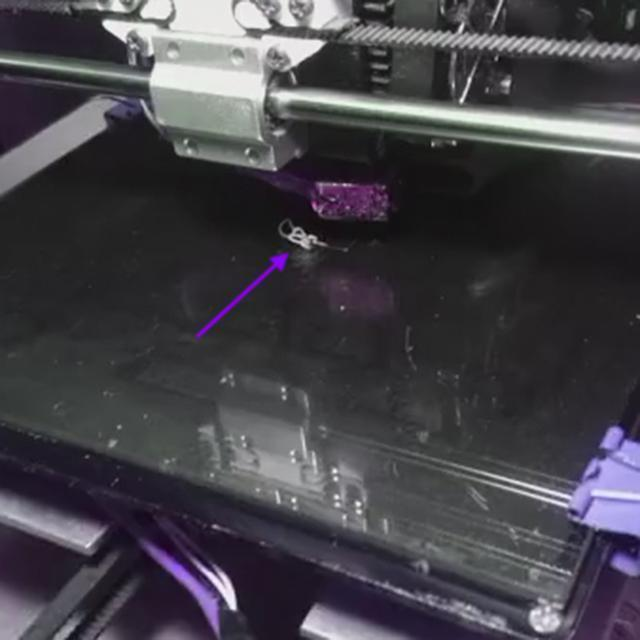spaghetti: (277, 215, 331, 256)
